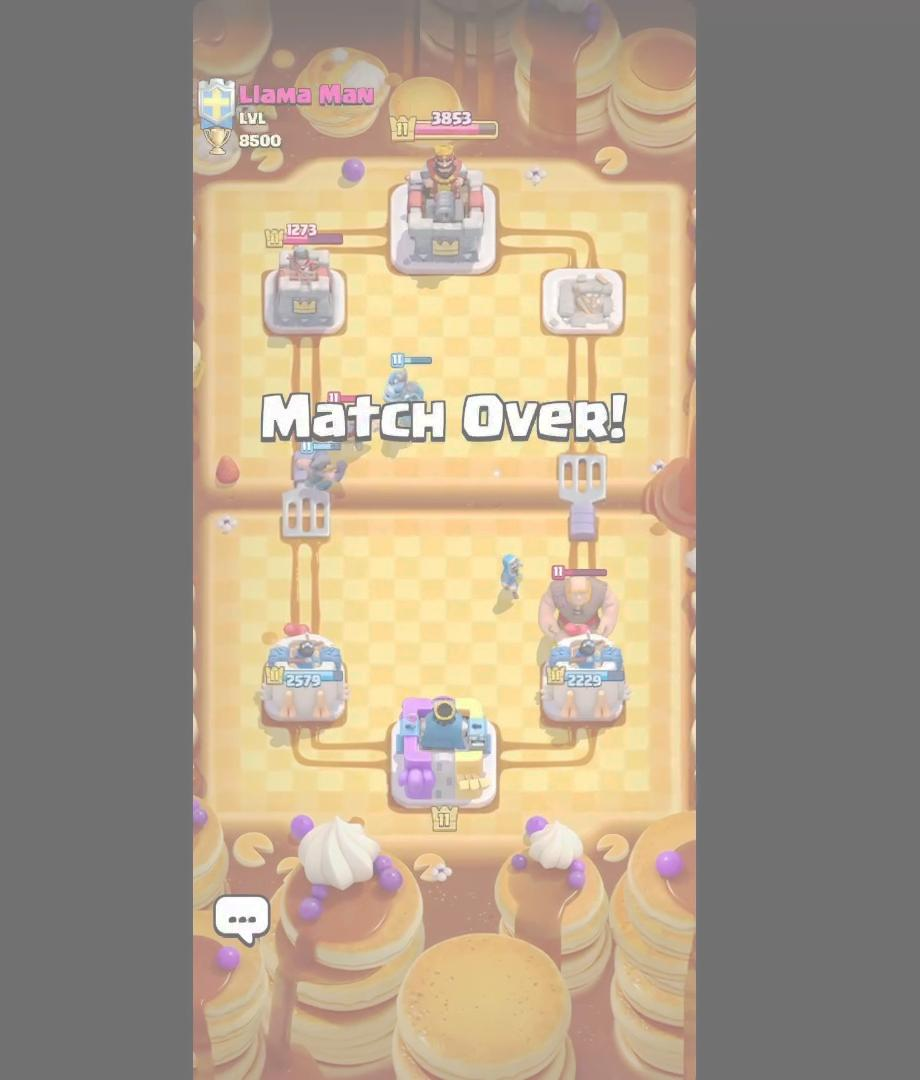Knight: (323, 386, 377, 445)
